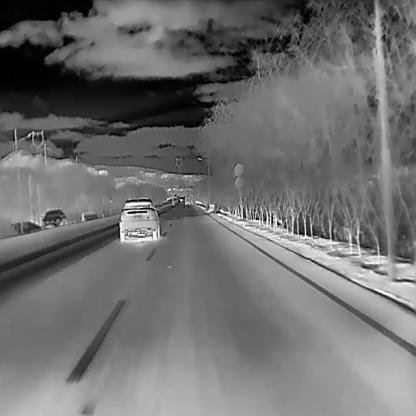car: (118, 196, 161, 244), (42, 207, 68, 230), (184, 195, 191, 206), (179, 197, 183, 204), (173, 193, 177, 198)
